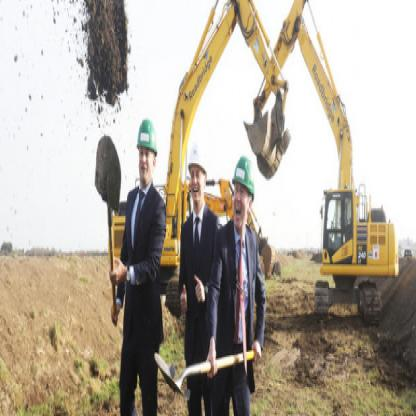excavator: (250, 0, 407, 328)
person: (96, 96, 165, 414), (201, 150, 268, 414), (172, 142, 213, 413)
